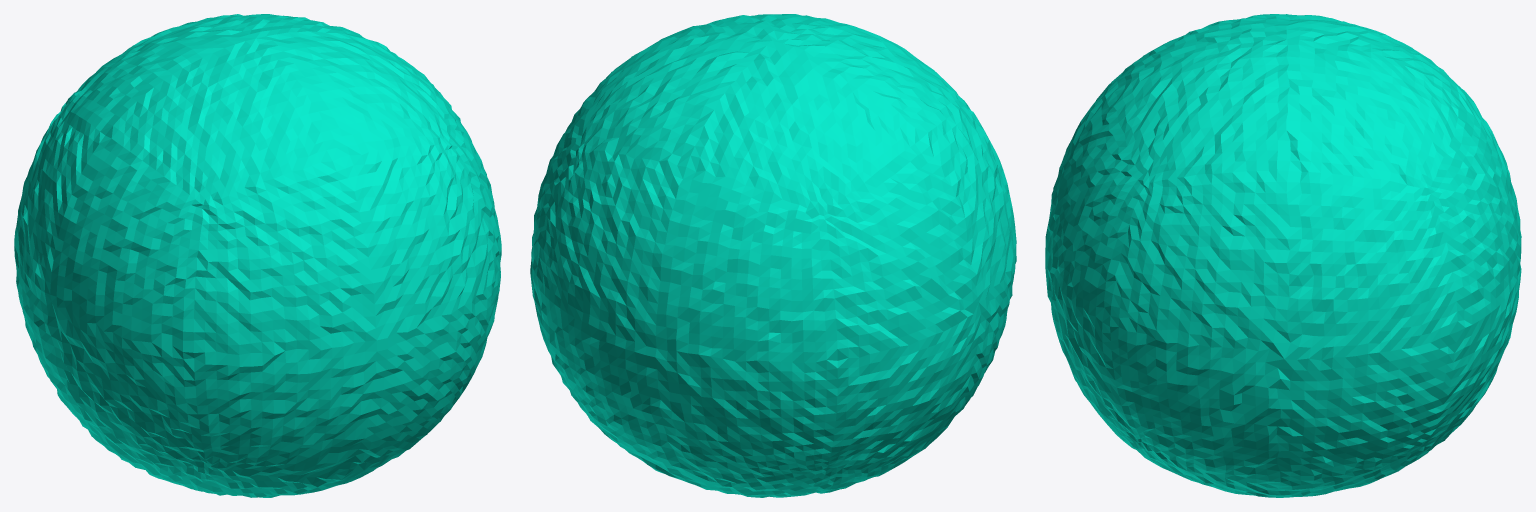
The model's file is Sea24.fbx.
The picture shows the model from 3 angles, left to right: view 1: azimuth 30°, elevation 25°; view 2: azimuth 150°, elevation 25°; view 3: azimuth 270°, elevation 25°; orthographic projection.
Visible parts, largest first — view 1: pCube1; view 2: pCube1; view 3: pCube1.
Part boxes in pixels (bbox=[...]): pCube1: bbox=[14, 14, 501, 497]; pCube1: bbox=[530, 14, 1016, 497]; pCube1: bbox=[1045, 14, 1521, 497].
Size of the model in its own units: 39.96 by 39.91 by 39.86.
